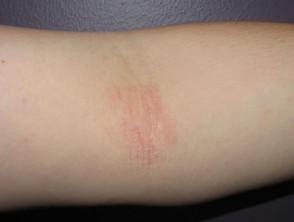Eczema: (145, 106, 163, 133), (141, 127, 155, 157), (138, 84, 157, 106), (162, 133, 183, 152), (120, 127, 141, 144), (139, 153, 156, 173), (110, 86, 129, 103), (118, 112, 139, 124), (157, 145, 169, 166), (160, 116, 178, 129), (21, 94, 35, 110), (116, 103, 136, 114), (126, 150, 141, 163), (26, 136, 45, 146), (261, 107, 276, 116)
